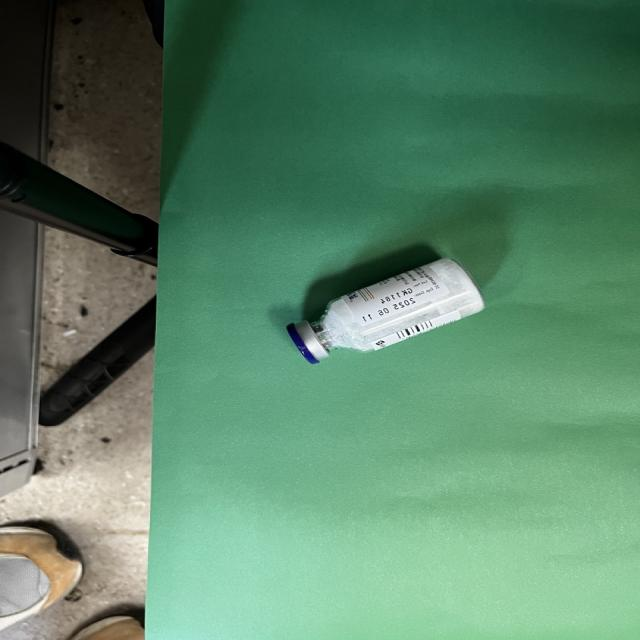Vials: (285, 256, 485, 364)
